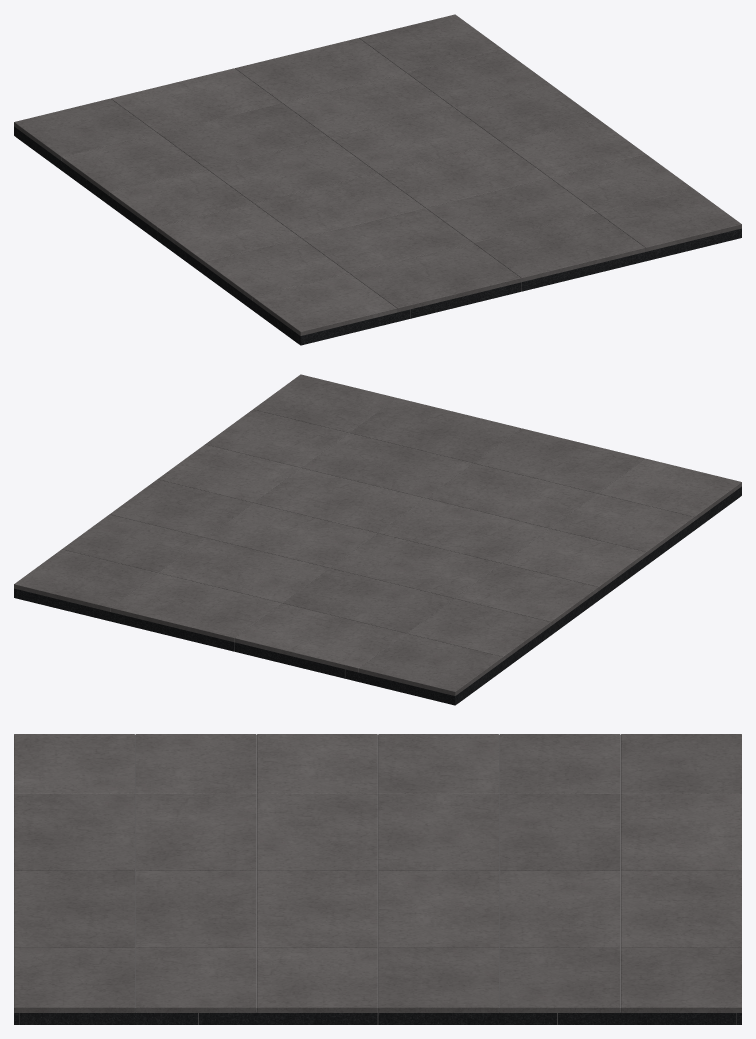
File: floor-graphite-large.glb
The picture shows the model from 3 angles, top to bottom: view 1: azimuth 30°, elevation 25°; view 2: azimuth 150°, elevation 25°; view 3: azimuth 270°, elevation 25°; orthographic projection. The views are drawn at different scales.
Parts seen in each view (by area): view 1: Stone_field_graphite, Stone_edge_graphite; view 2: Stone_field_graphite, Stone_edge_graphite; view 3: Stone_field_graphite, Stone_edge_graphite, Joint_and_bedding_graphite.
Boxes of the visible parts, <box> form: Stone_field_graphite: <box>14,14,741,335</box>; Stone_edge_graphite: <box>14,126,741,345</box>; Stone_field_graphite: <box>14,374,741,695</box>; Stone_edge_graphite: <box>14,486,741,705</box>; Stone_field_graphite: <box>14,734,741,1012</box>; Stone_edge_graphite: <box>14,1012,741,1024</box>; Joint_and_bedding_graphite: <box>19,734,736,1024</box>.
Size of the model in its own units: 3.2 by 0.096 by 3.6.
Materials: 3 (2 with a texture image).
